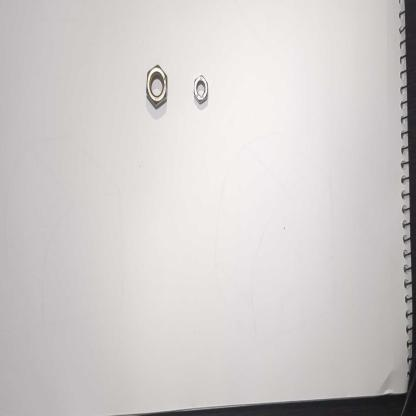NUTS: (141, 53, 174, 117), (191, 68, 212, 113)
